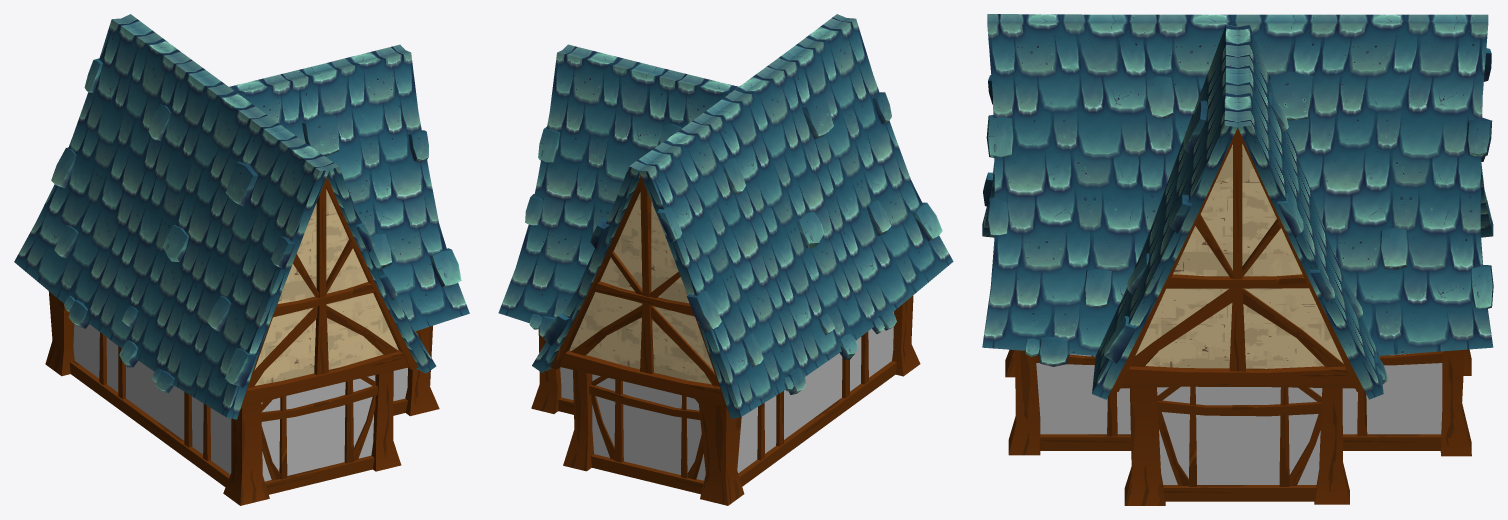
The model's file is SM_BLD_body_v05_01.fbx.
3 views of the same model, side by side, from view 1: azimuth 30°, elevation 25°; view 2: azimuth 150°, elevation 25°; view 3: azimuth 270°, elevation 25° (orthographic). The views are drawn at different scales.
Parts seen in each view (by area): view 1: SM_BLD_body_v05_01; view 2: SM_BLD_body_v05_01; view 3: SM_BLD_body_v05_01.
Part boxes in pixels (x1,y1,x2,y2): SM_BLD_body_v05_01: (14, 14, 469, 505); SM_BLD_body_v05_01: (498, 14, 953, 505); SM_BLD_body_v05_01: (982, 14, 1493, 505).
Size of the model in its own units: 1024 by 1078 by 1288.
